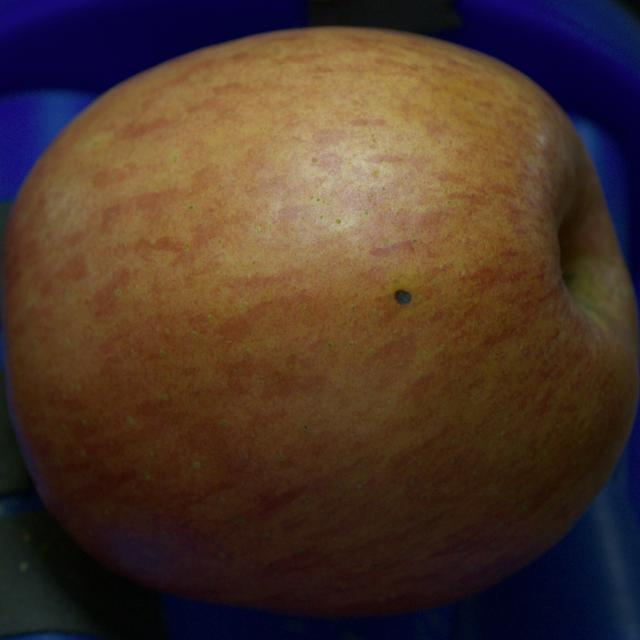apple: (2, 28, 639, 616)
pest: (395, 289, 411, 305)
